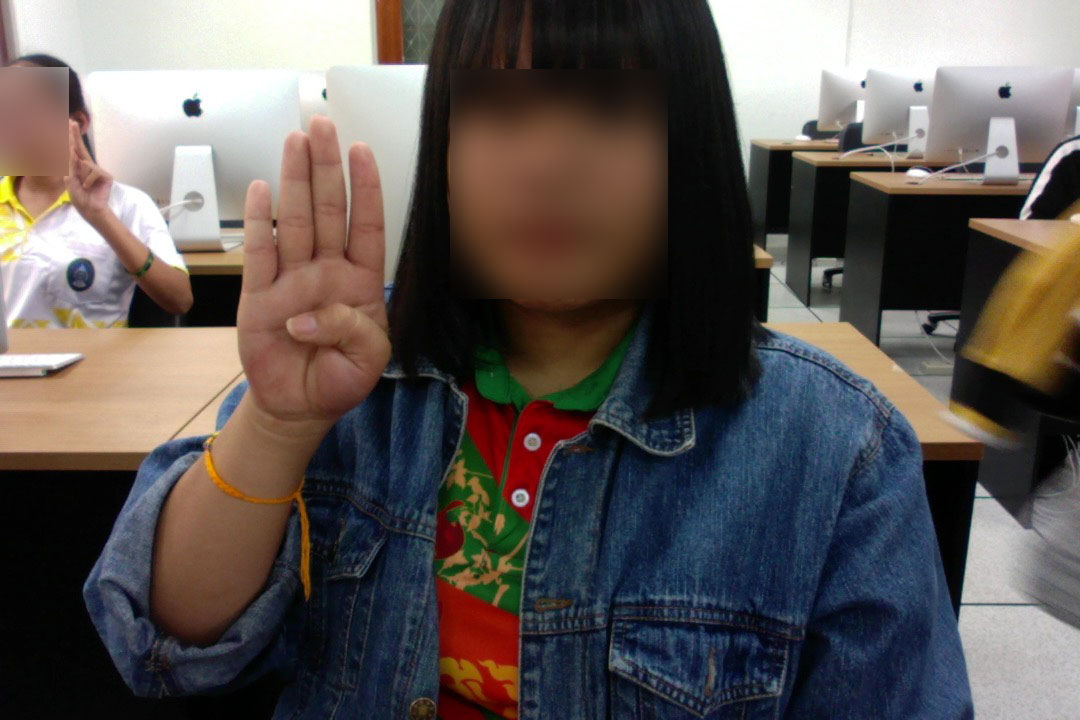bor: (225, 106, 396, 430)
